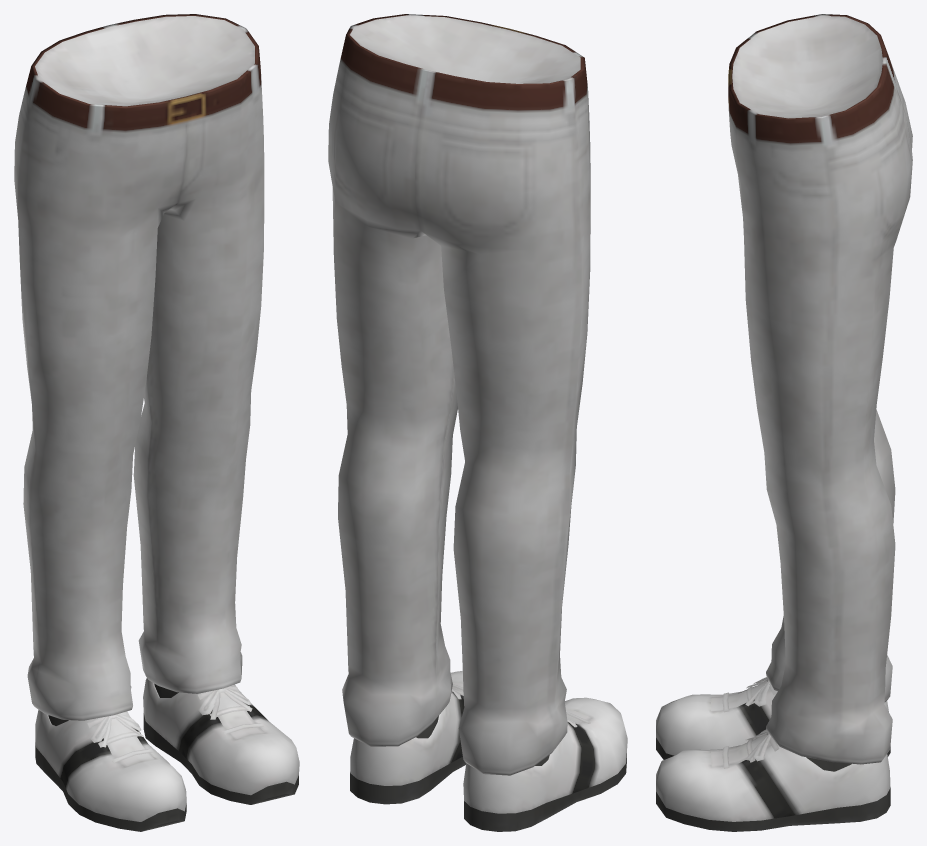
File: tr0840_00_lwb02.gltf
3 views of the same model, side by side, from view 1: azimuth 30°, elevation 25°; view 2: azimuth 150°, elevation 25°; view 3: azimuth 270°, elevation 25° (orthographic). The views are drawn at different scales.
Visible parts, largest first — view 1: lwb02_lowerbody_mesh_shape:lowerbody02, lwb02_shoes_mesh_shape:lowerbody02; view 2: lwb02_lowerbody_mesh_shape:lowerbody02, lwb02_shoes_mesh_shape:lowerbody02; view 3: lwb02_lowerbody_mesh_shape:lowerbody02, lwb02_shoes_mesh_shape:lowerbody02.
Part boxes in pixels (x1,y1,x2,y2): lwb02_lowerbody_mesh_shape:lowerbody02: (14,14,264,720); lwb02_shoes_mesh_shape:lowerbody02: (35,678,299,831); lwb02_lowerbody_mesh_shape:lowerbody02: (328,14,590,775); lwb02_shoes_mesh_shape:lowerbody02: (350,671,627,831); lwb02_lowerbody_mesh_shape:lowerbody02: (728,14,912,764); lwb02_shoes_mesh_shape:lowerbody02: (656,677,890,831).
Size of what is drawn, in the model's own units: 0.3371 by 0.9674 by 0.313.
1 material, 1 textured.
